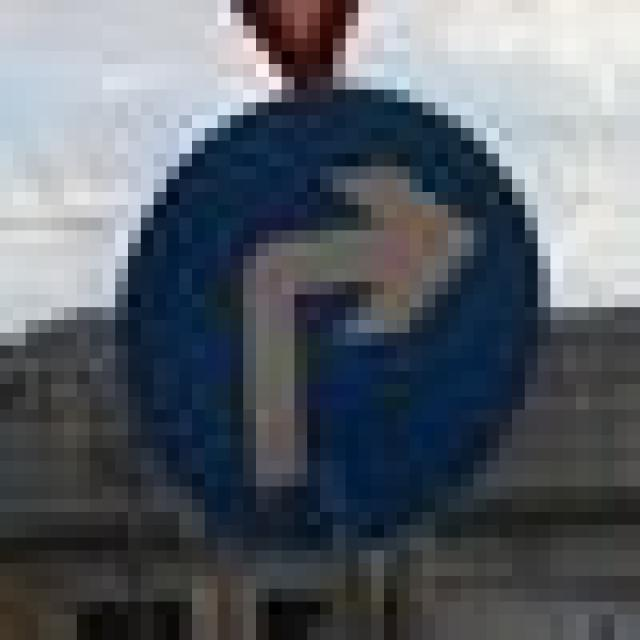railway_crossing: (102, 76, 538, 538)
